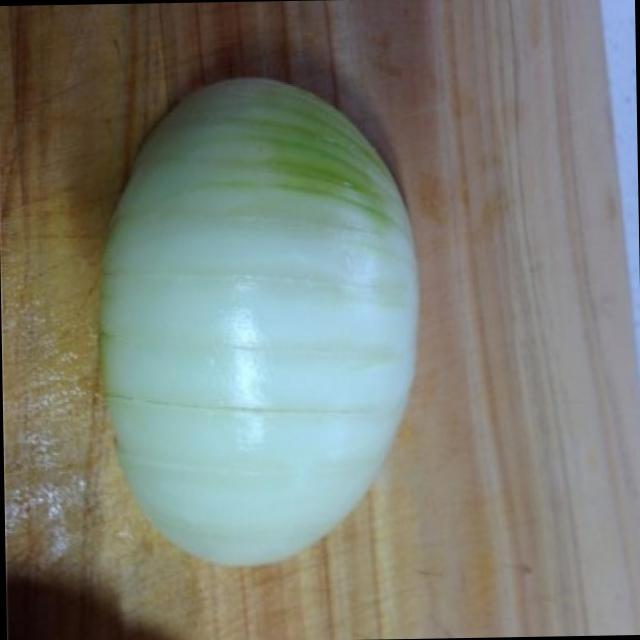Onion: (95, 71, 416, 560)
